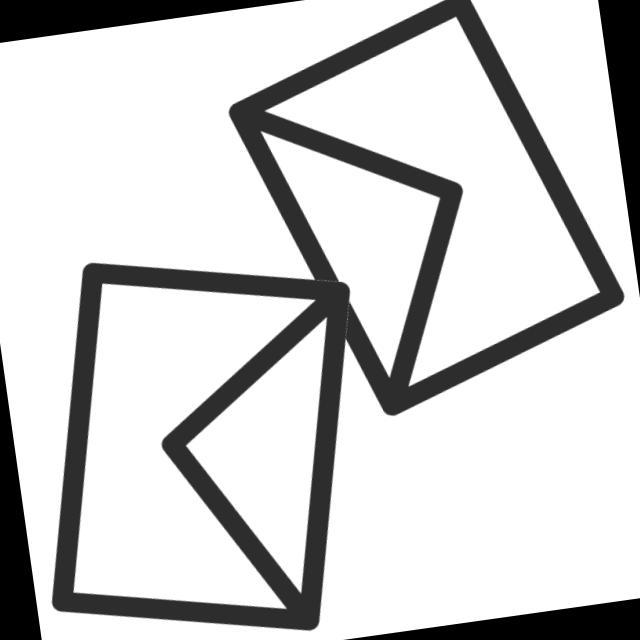letter: (211, 1, 640, 441), (1, 221, 406, 640)
